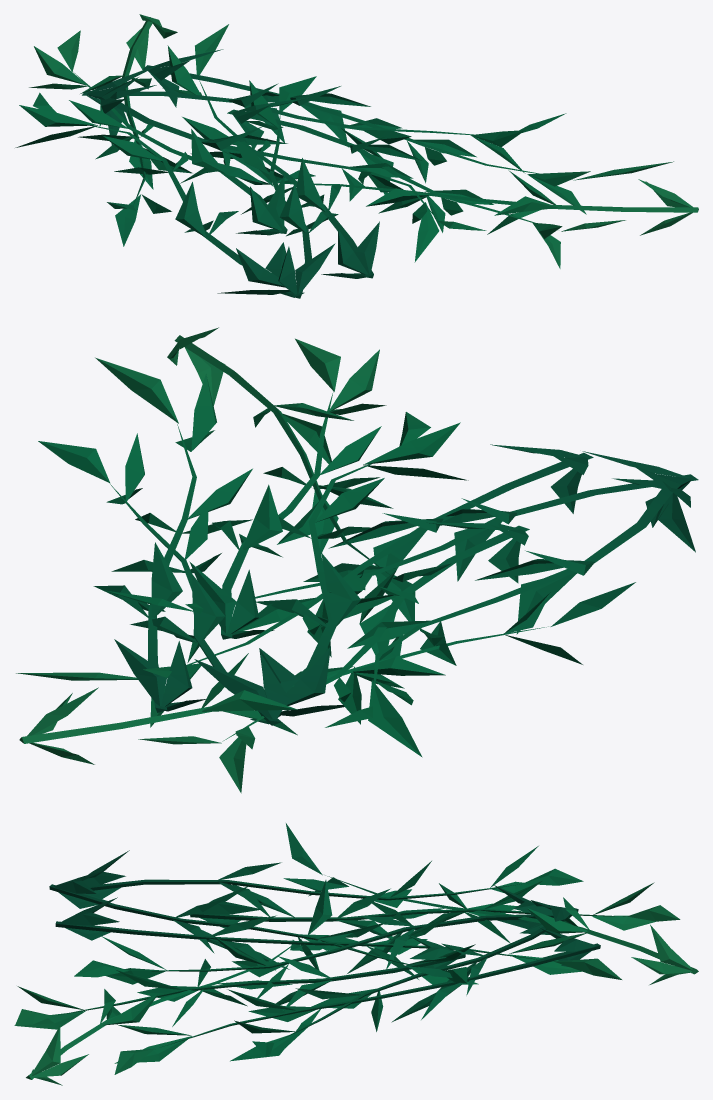
File: Seaweed_1.fbx
3 renders of one model, top to bottom at view 1: azimuth 30°, elevation 25°; view 2: azimuth 150°, elevation 25°; view 3: azimuth 270°, elevation 25°, orthographic. The views are drawn at different scales.
Visible parts, largest first — view 1: Seaweed_1; view 2: Seaweed_1; view 3: Seaweed_1.
Part boxes in pixels (left/top/right/bottom): Seaweed_1: left=15, top=14, right=698, bottom=298; Seaweed_1: left=16, top=327, right=698, bottom=793; Seaweed_1: left=14, top=823, right=698, bottom=1085.
Bounding box in the file's own units: 415 × 51.89 × 506.
